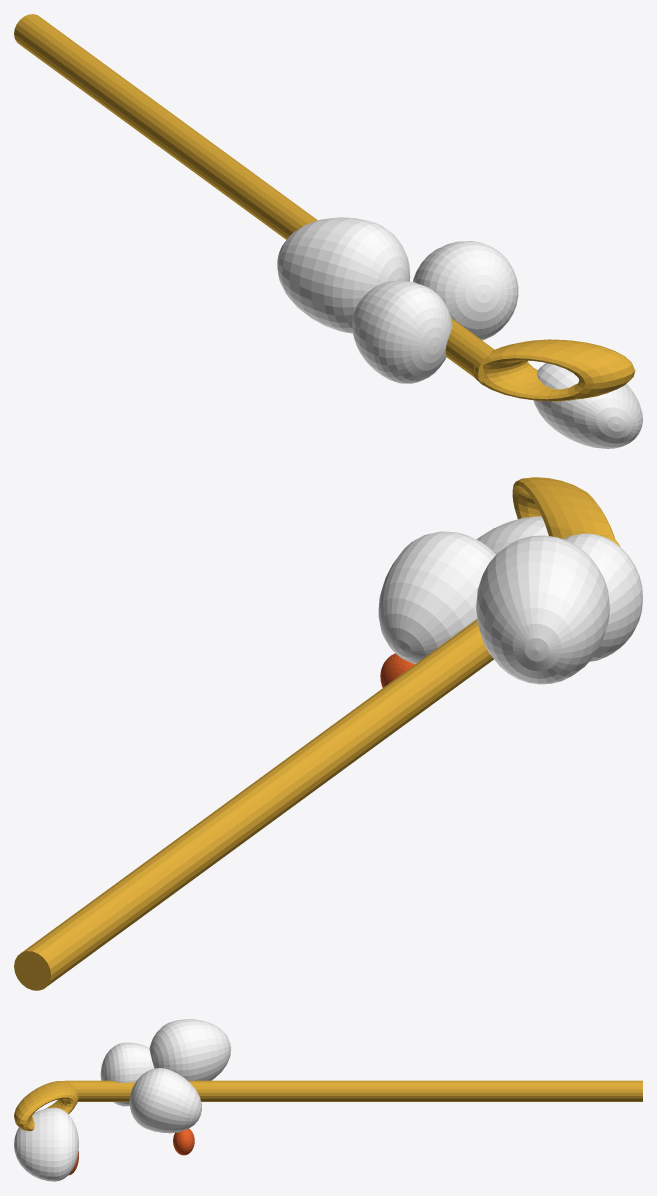
Rendered from tinker.obj.
The picture shows the model from 3 angles, top to bottom: view 1: azimuth 30°, elevation 25°; view 2: azimuth 150°, elevation 25°; view 3: azimuth 270°, elevation 25°; orthographic projection. The views are drawn at different scales.
Visible parts, largest first — view 1: group_0_16448250, group_0_14789940; view 2: group_0_16448250, group_0_14789940; view 3: group_0_16448250, group_0_14789940, group_0_14900002.
Part boxes in pixels (left/top/right/bottom): group_0_16448250: left=277, top=217, right=642, bottom=448; group_0_14789940: left=14, top=14, right=635, bottom=401; group_0_16448250: left=378, top=516, right=642, bottom=684; group_0_14789940: left=14, top=477, right=620, bottom=990; group_0_16448250: left=14, top=1019, right=230, bottom=1181; group_0_14789940: left=14, top=1080, right=642, bottom=1131; group_0_14900002: left=68, top=1128, right=194, bottom=1175.
Size of the model in its own units: 22.89 by 17 by 87.
